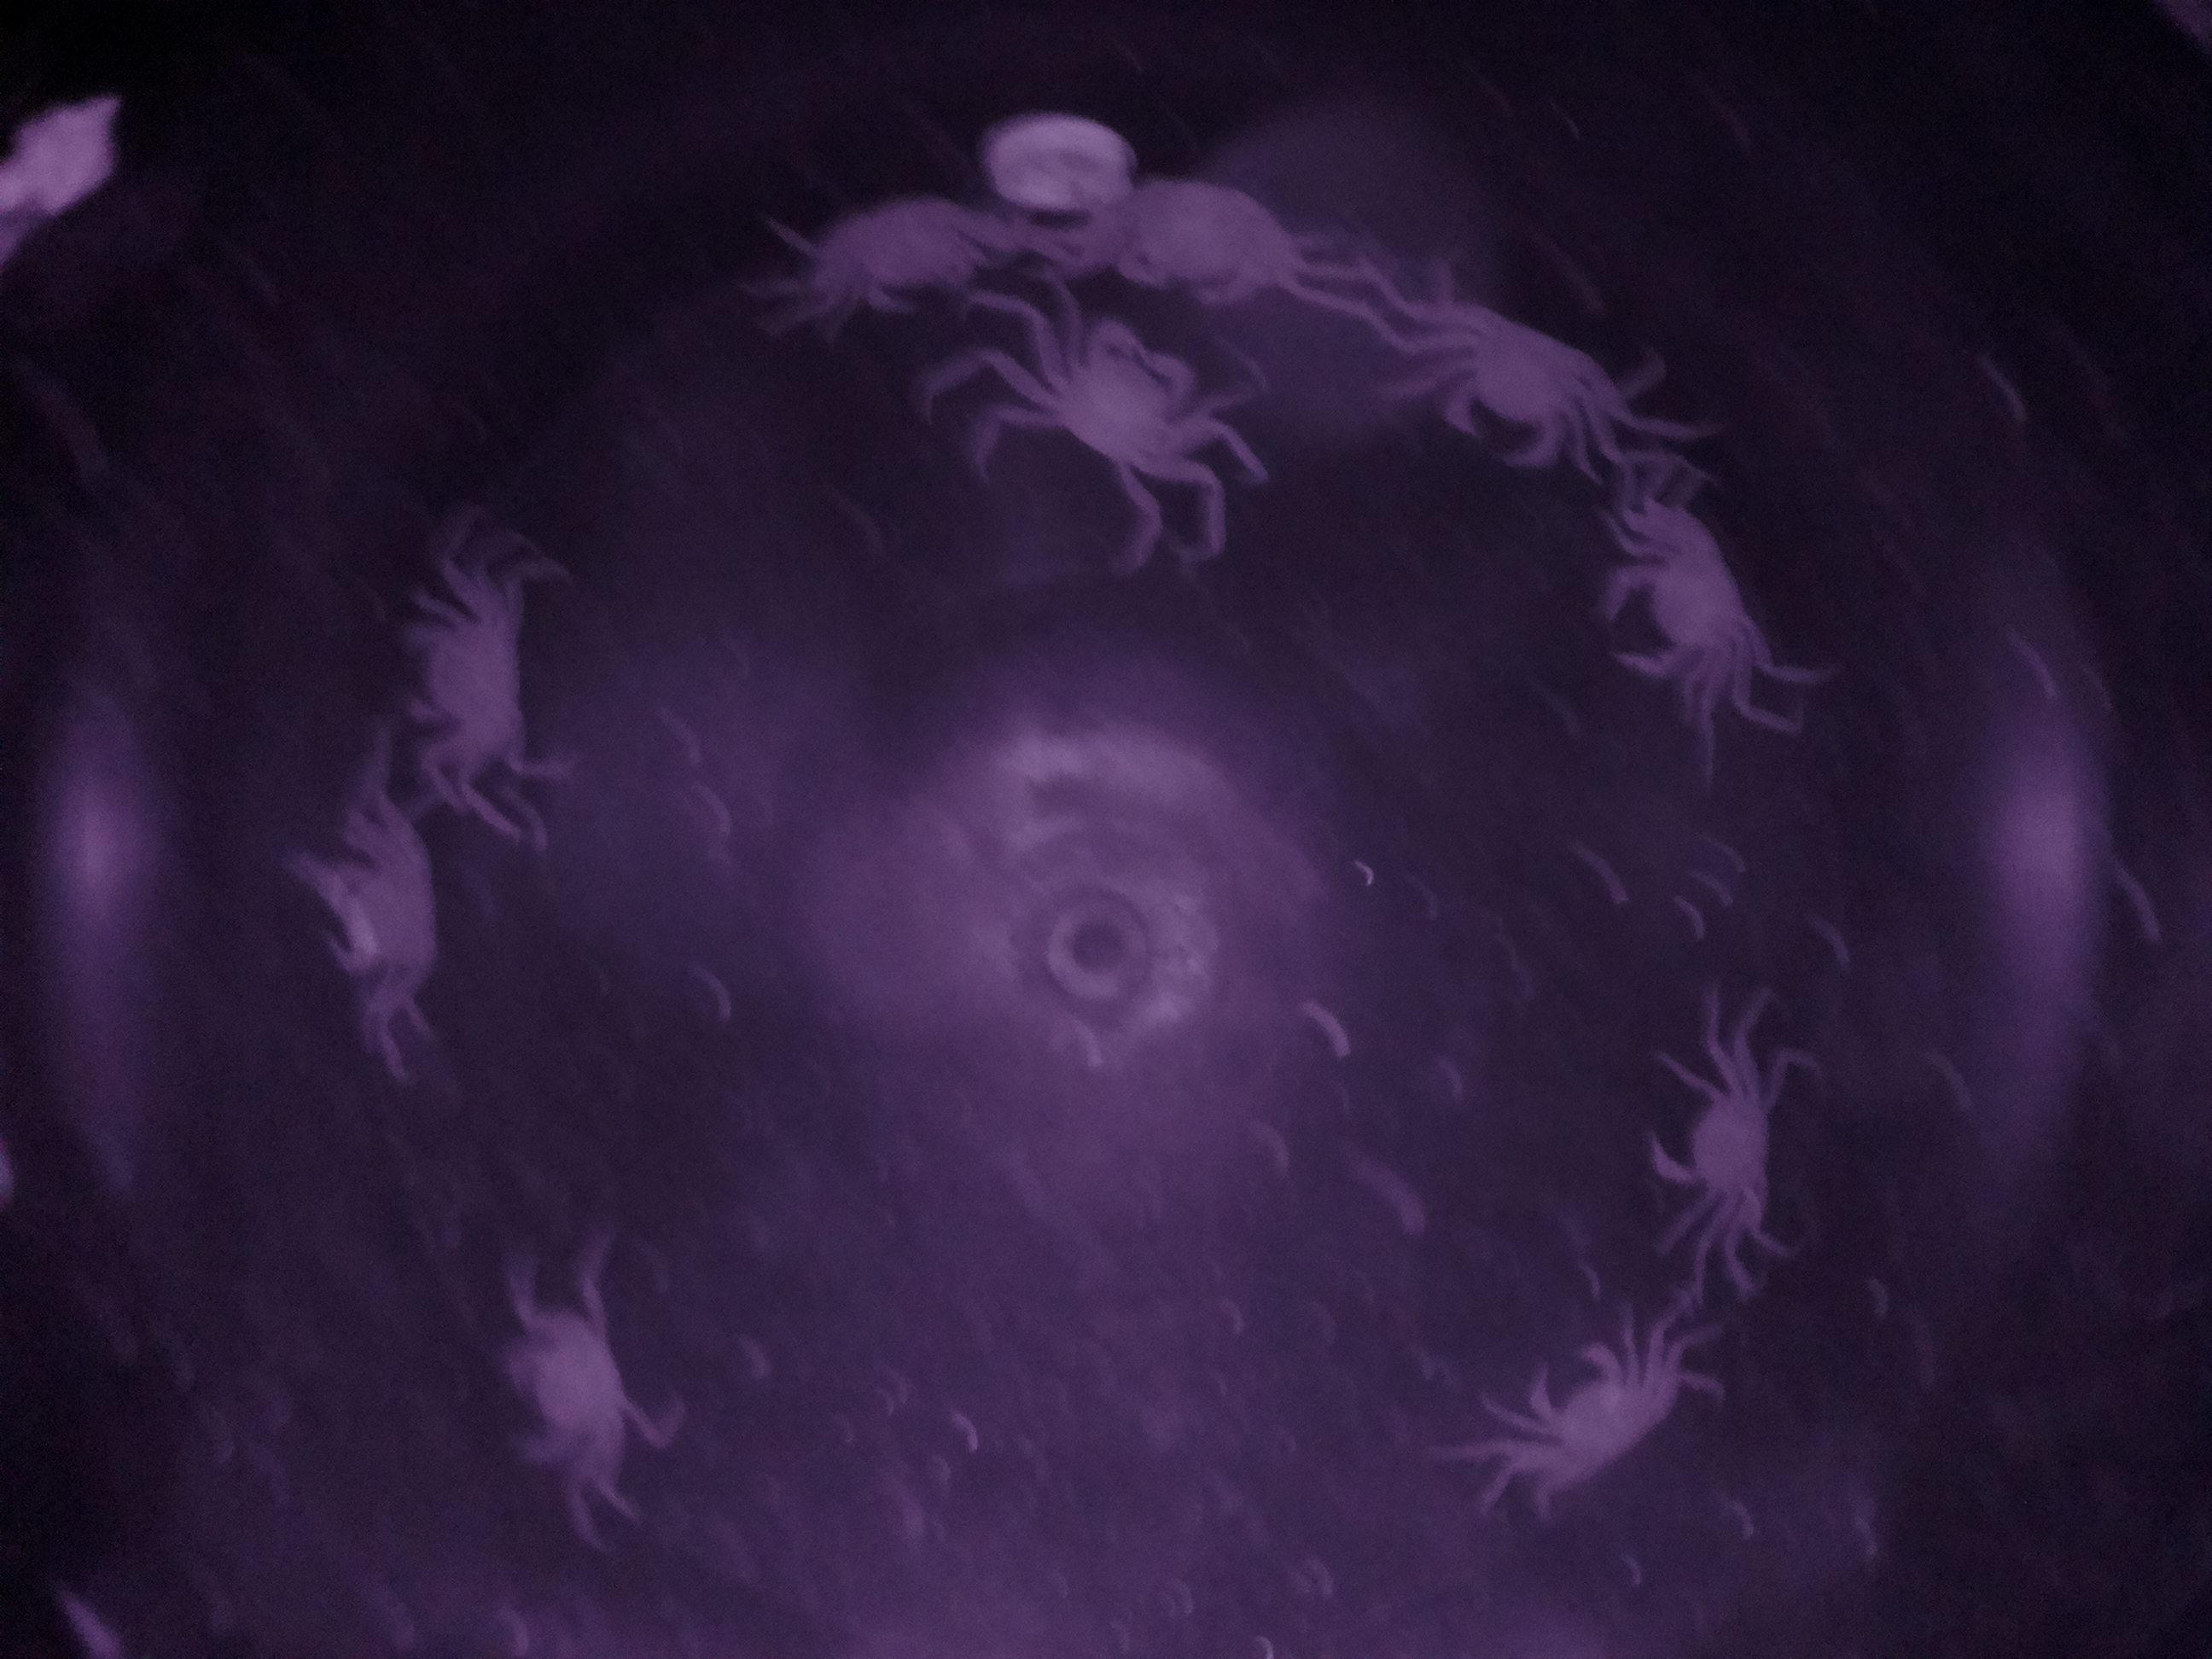Crab: (1024, 296, 1230, 528)
